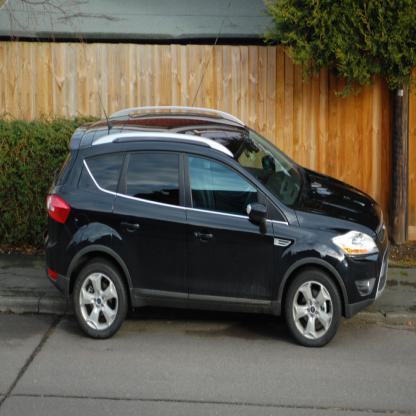Car: (46, 92, 390, 348)
